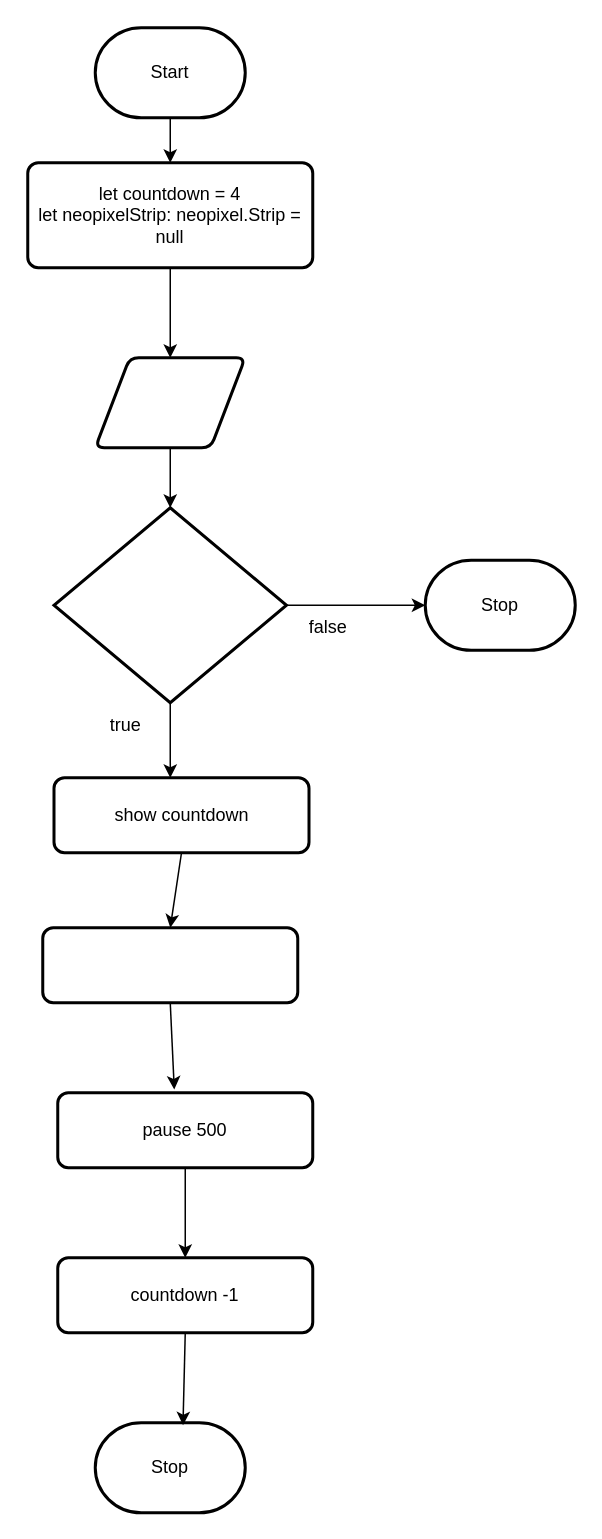
This 602x1539 diagram has some shape labels left out. The shapes that lost their labels are listed below. From the top down, each one's centre as x and y in pixels, then its label:
the point at 169,402: Press A
the point at 169,605: while countdown >= 0
the point at 169,965: show RGB
